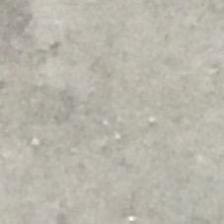Non_Crack: (56, 34, 201, 204)
